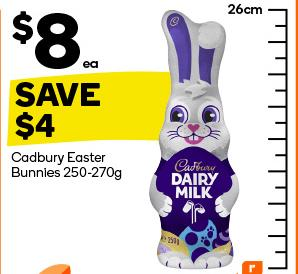description_block: (4, 147, 124, 183)
price_main: (4, 5, 105, 72)
product_image_block: (148, 3, 242, 271)
promo_text_block: (2, 76, 164, 143)
